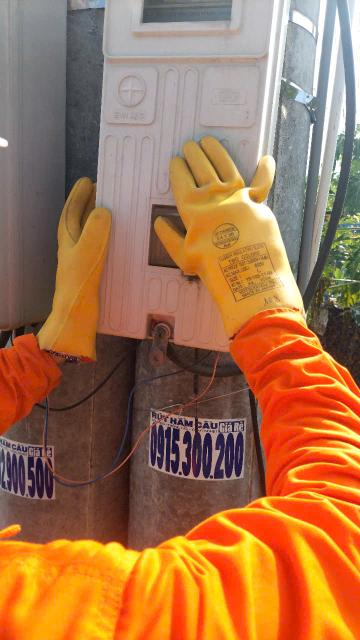gloves: (143, 132, 321, 337), (36, 197, 126, 368)
